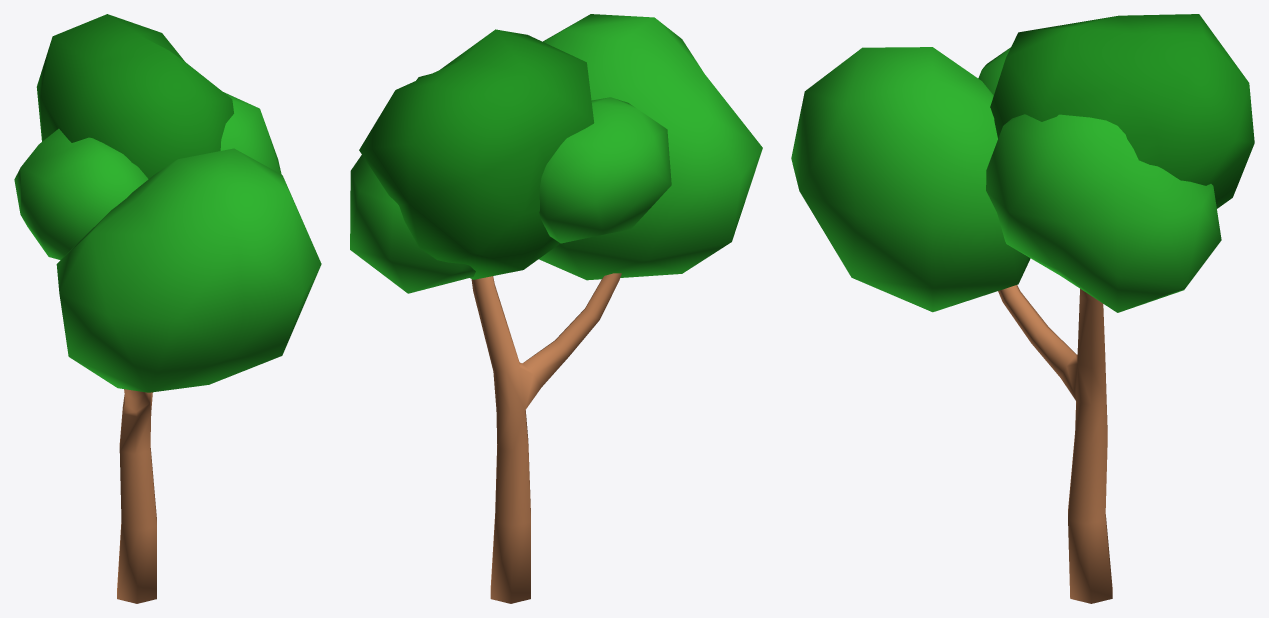
The model's file is TraStandard1.fbx.
The picture shows the model from 3 angles, left to right: view 1: azimuth 30°, elevation 25°; view 2: azimuth 150°, elevation 25°; view 3: azimuth 270°, elevation 25°; orthographic projection. The views are drawn at different scales.
Visible parts, largest first — view 1: _GeoSphere014, _GeoSphere015, _GeoSphere013, _Cylinder004, _GeoSphere016; view 2: _GeoSphere015, _GeoSphere014, _Cylinder004, _GeoSphere013, _GeoSphere016; view 3: _GeoSphere014, _GeoSphere016, _GeoSphere015, _Cylinder004, _GeoSphere013.
Boxes of the visible parts, x1,y1,x2,y2 form: _GeoSphere014: (56, 148, 321, 392); _GeoSphere015: (36, 14, 233, 178); _GeoSphere013: (14, 128, 148, 259); _Cylinder004: (117, 389, 156, 603); _GeoSphere016: (220, 92, 281, 174); _GeoSphere015: (359, 29, 594, 279); _GeoSphere014: (539, 14, 762, 280); _Cylinder004: (471, 273, 621, 603); _GeoSphere013: (539, 97, 671, 243); _GeoSphere016: (350, 74, 475, 293); _GeoSphere014: (791, 47, 1030, 312); _GeoSphere016: (986, 114, 1221, 312); _GeoSphere015: (990, 14, 1254, 208); _Cylinder004: (998, 285, 1112, 603); _GeoSphere013: (978, 47, 1010, 95).
Size of the model in its own units: 73.68 by 133 by 96.54.
